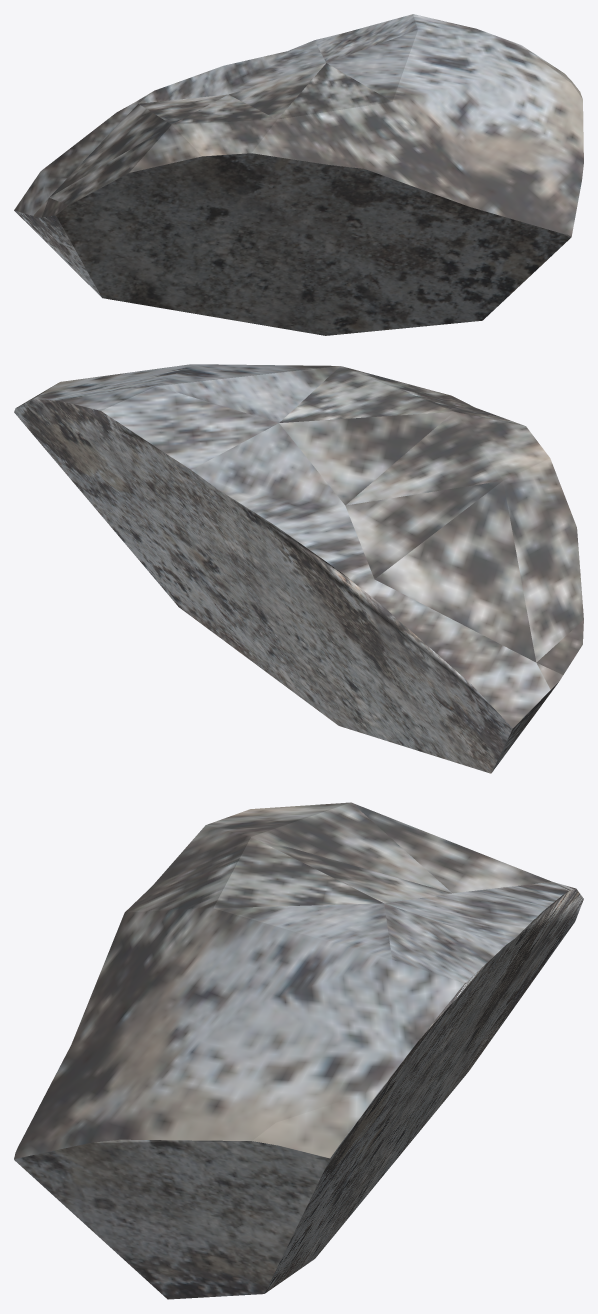
Rendered from Asteroid_Medium_001_02_006_03_008.fbx.
3 renders of one model, top to bottom at view 1: azimuth 30°, elevation 25°; view 2: azimuth 150°, elevation 25°; view 3: azimuth 270°, elevation 25°, orthographic. The views are drawn at different scales.
Visible parts, largest first — view 1: Asteroid_Medium_001_02_006_03_008; view 2: Asteroid_Medium_001_02_006_03_008; view 3: Asteroid_Medium_001_02_006_03_008.
Boxes of the visible parts, x1,y1,x2,y2 form: Asteroid_Medium_001_02_006_03_008: (14,14,583,335); Asteroid_Medium_001_02_006_03_008: (14,364,583,773); Asteroid_Medium_001_02_006_03_008: (14,802,583,1299).
Bounding box in the file's own units: 15.95 × 8.16 × 10.95.
